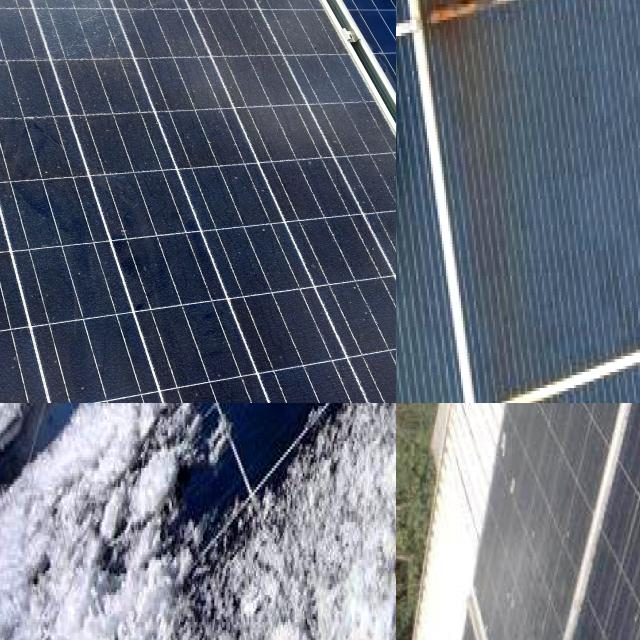dust: (95, 0, 315, 167), (200, 194, 396, 372), (0, 182, 120, 322), (0, 332, 194, 403), (0, 0, 100, 136), (494, 403, 556, 534), (534, 403, 630, 431), (483, 609, 538, 640)
panel: (270, 428, 386, 596), (156, 504, 267, 640), (99, 403, 215, 490), (203, 403, 297, 442), (0, 403, 69, 455), (189, 403, 265, 446), (273, 403, 361, 436), (308, 403, 372, 442), (28, 403, 80, 436), (102, 403, 163, 427), (66, 403, 134, 424)
shadow: (413, 0, 640, 80)
